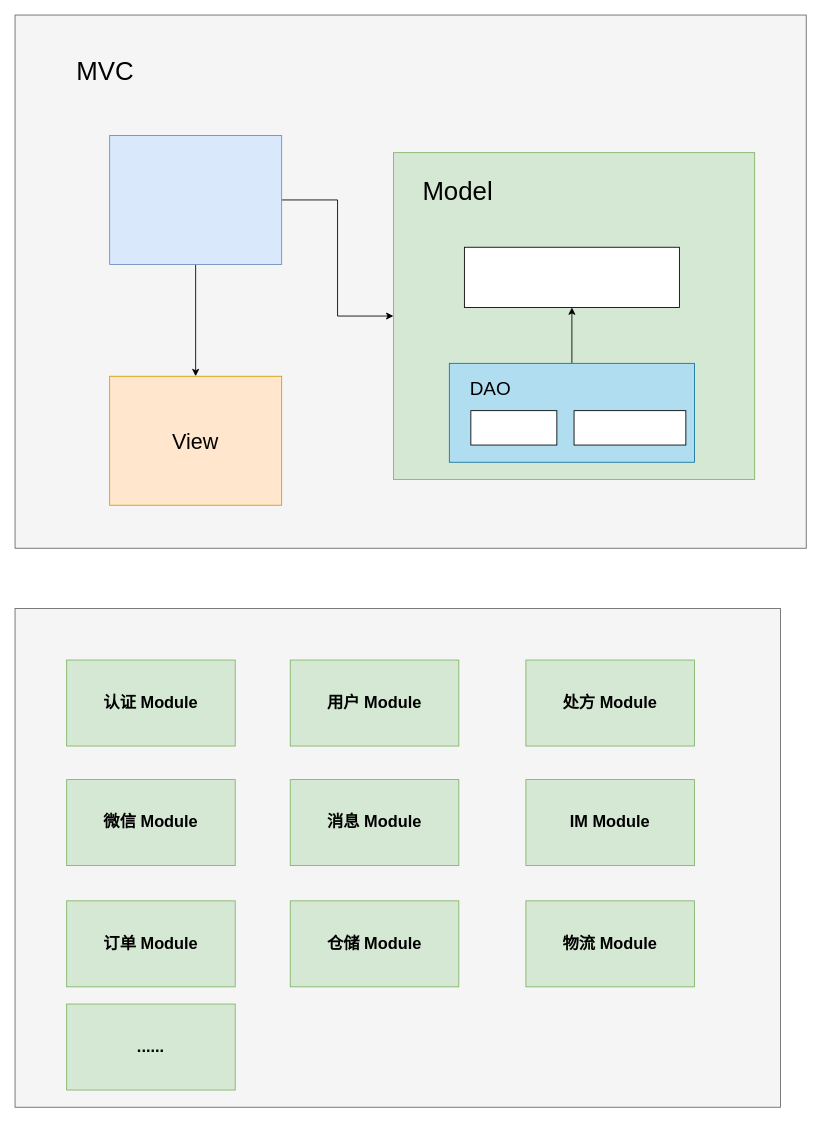
Image size: 821x1122. Some labels were removed from this diagram. Each missing label, with the centre of its shape:
Controller: the point at 195,199
DataAccess: the point at 629,427
Entity: the point at 513,427
Service: the point at 571,276
